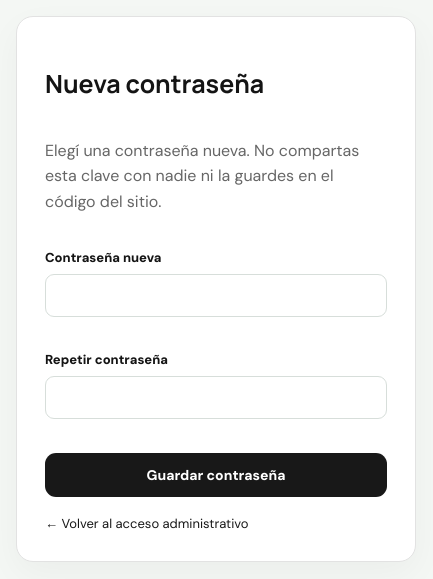
Test: recuperación de contraseña administrativa › permite guardar nueva contraseña con sesión del enlace
Expected: the button "Guardar contraseña" is shown, [45,453,387,497]
Type "UnaClaveMuchoMasLarga!" into the password field labelled "Contraseña nueva" at (216, 295), box [45,274,387,317]
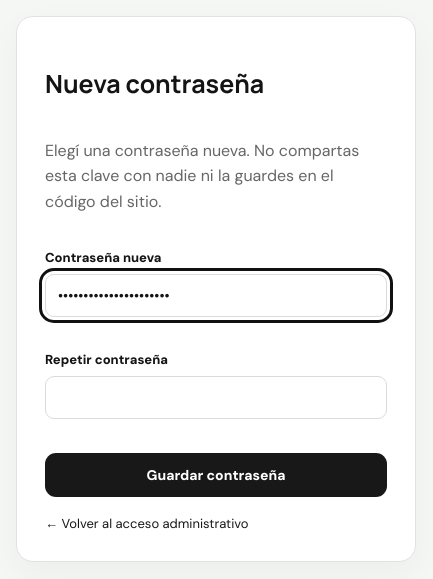
Type "UnaClaveMuchoMasLarga!" into the password field labelled "Repetir contraseña" at (216, 397), box [45,376,387,419]
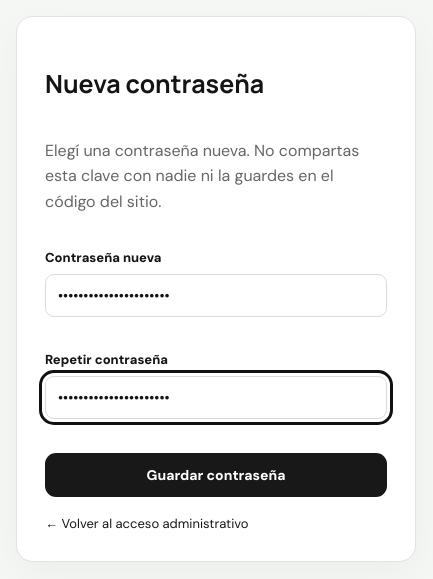
Click the button "Guardar contraseña" at (216, 475), box [45,453,387,497]
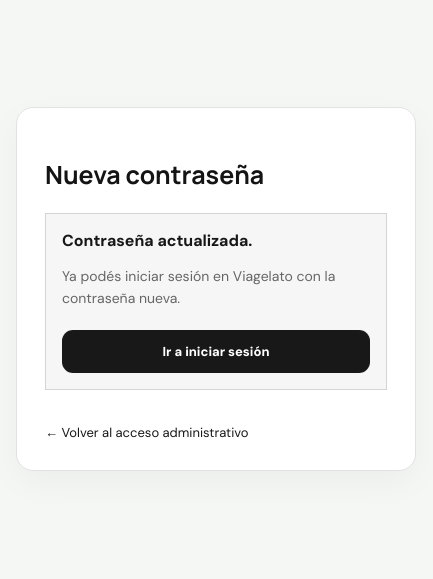
Expected: the text "Contraseña actualizada." is shown, [62,230,252,251]
